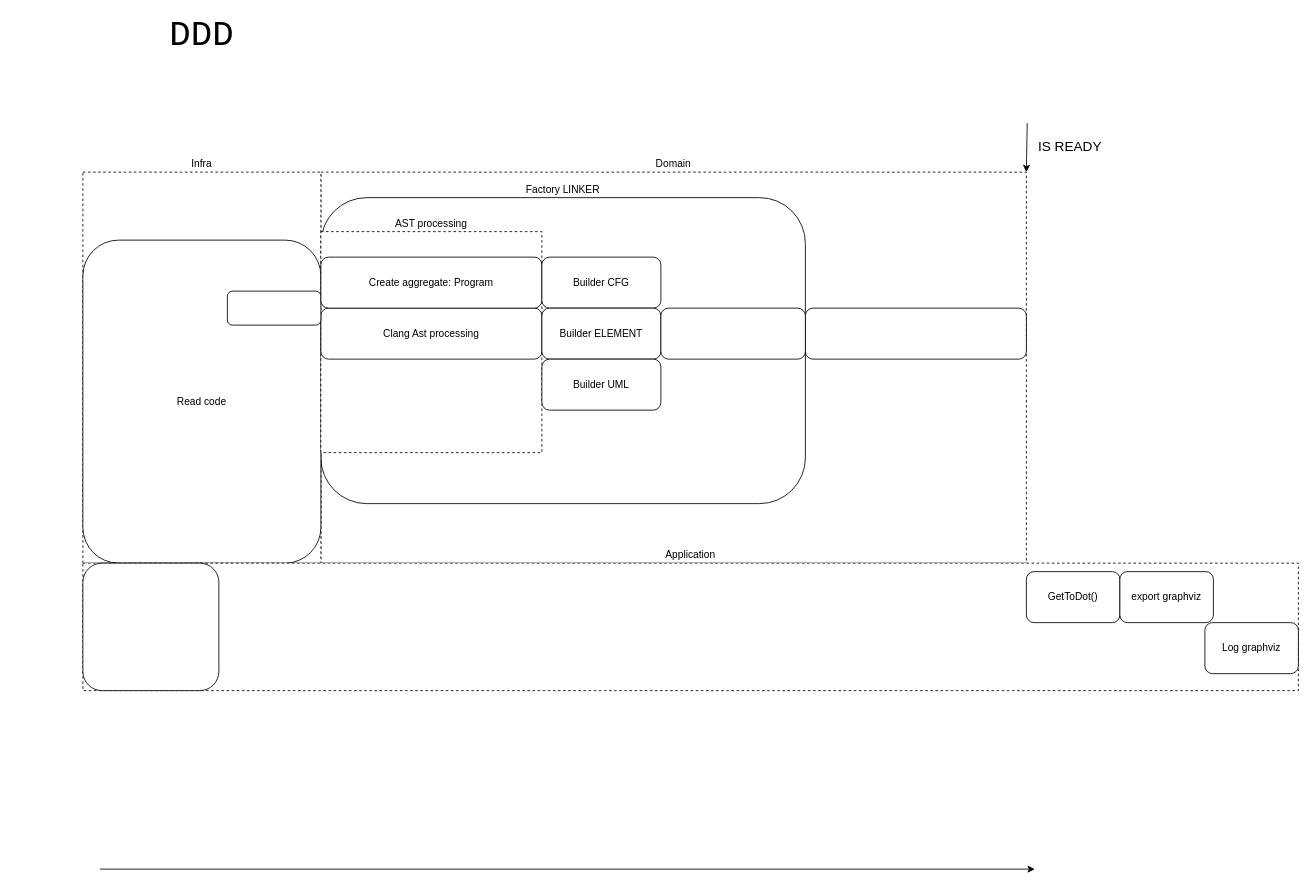
Image size: 1313x891. Some labels were removed from this diagram. The centre of each missing label's shape, as x and y in pixels:
"Clang" belongs at pixel 274 307.
"Get language" belongs at pixel 150 626.
"Link" belongs at pixel 732 333.
"Program" belongs at pixel 915 333.
